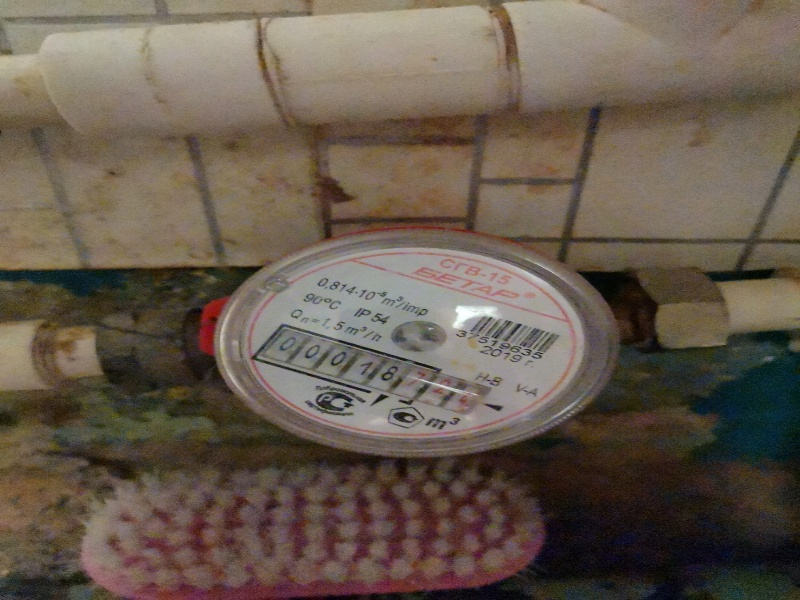meter: (269, 339, 477, 410)
